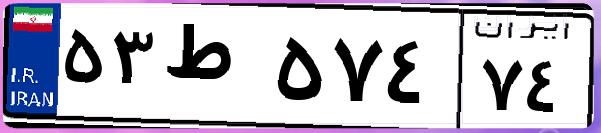3: (110, 28, 158, 98)
4: (385, 28, 445, 110), (525, 38, 570, 115)
5: (270, 28, 330, 110), (57, 26, 110, 100)
7: (330, 28, 385, 110), (475, 38, 525, 113)
ط: (158, 20, 270, 120)
